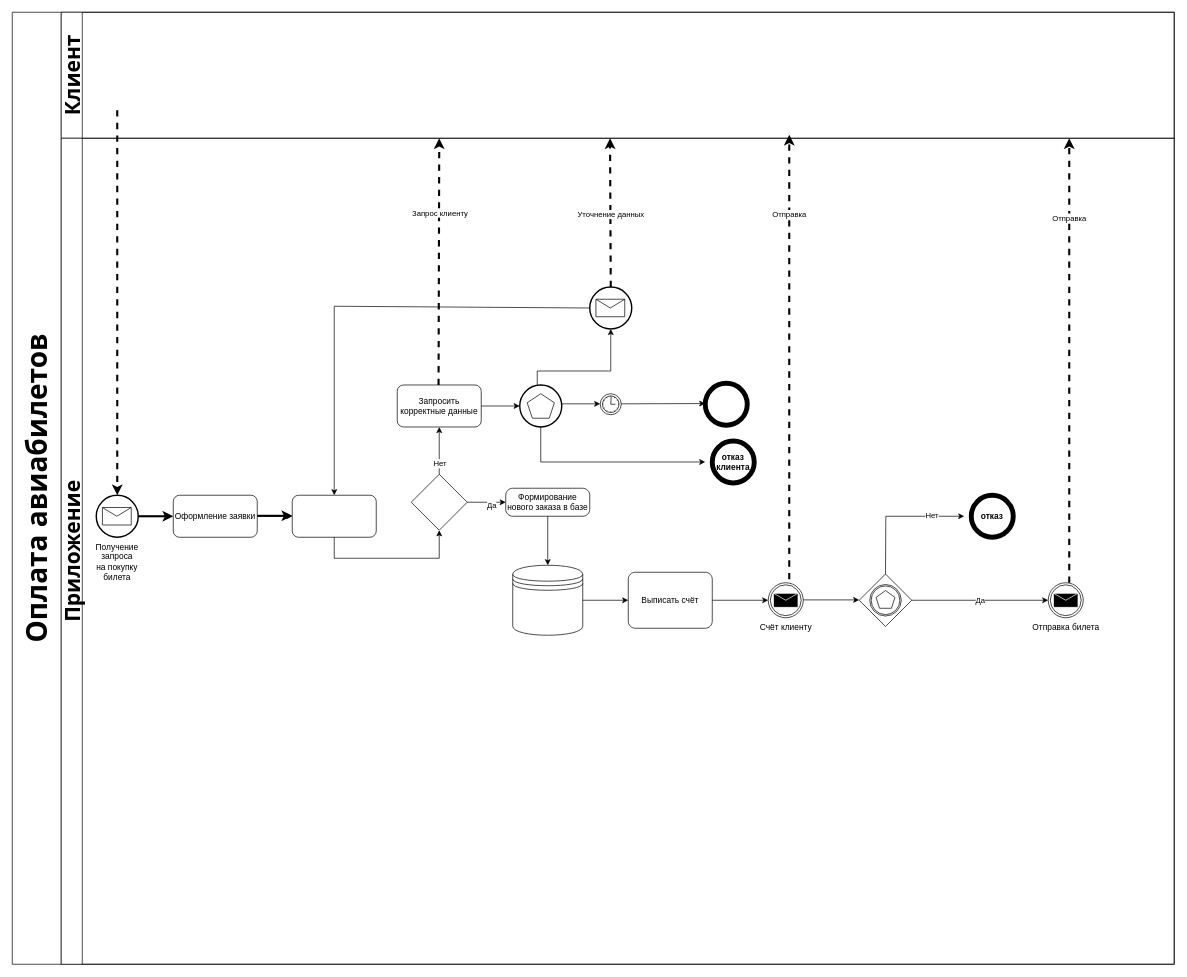
Some shapes in this 1187 by 977 pixel diagram are drawn without their labels. The box of each missing label's shape, as (x1, y1, x2, y2) in pixels:
24 часа: (600, 393, 621, 415)
БД: (512, 565, 583, 635)
Корректна?: (411, 474, 467, 530)
нет ответа: (702, 380, 749, 427)
Оплата пришла?: (859, 573, 912, 626)
Проверка корректности заявки: (292, 495, 376, 537)
